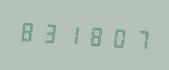eight: (17, 15, 38, 46), (84, 20, 105, 51)
one: (62, 18, 83, 49)
seven: (128, 23, 149, 54)
three: (39, 16, 60, 48)
zero: (106, 21, 127, 52)
